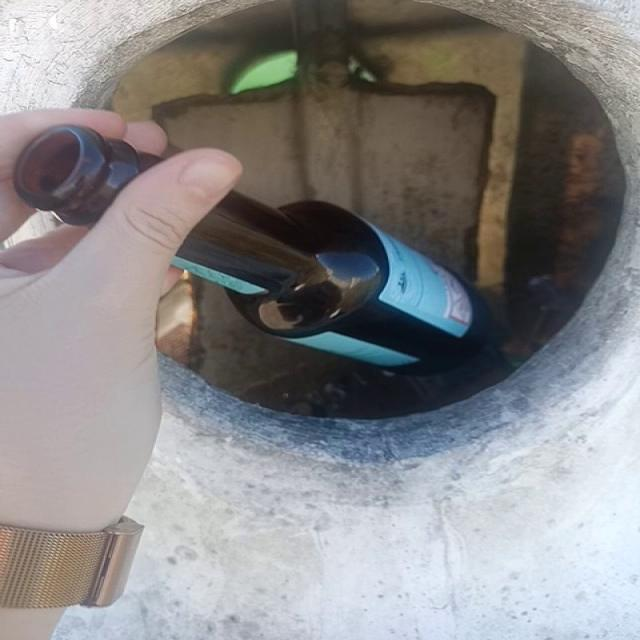glass: (172, 192, 487, 372), (13, 125, 160, 224)
